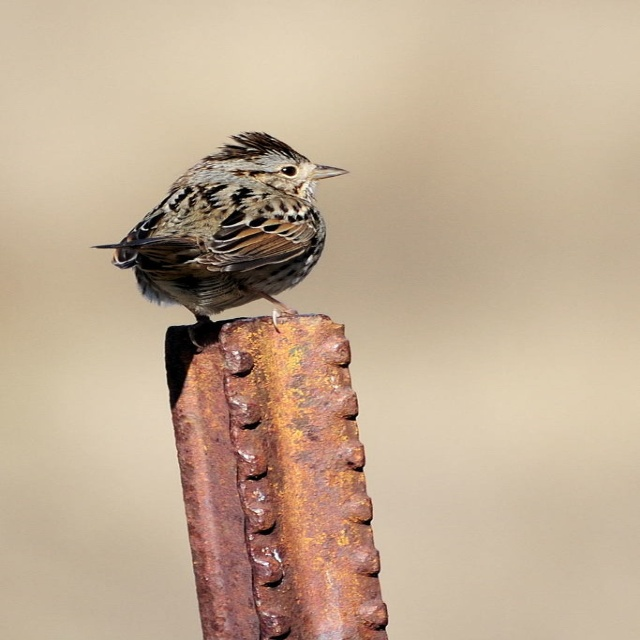Sparrow: (93, 131, 355, 351)
